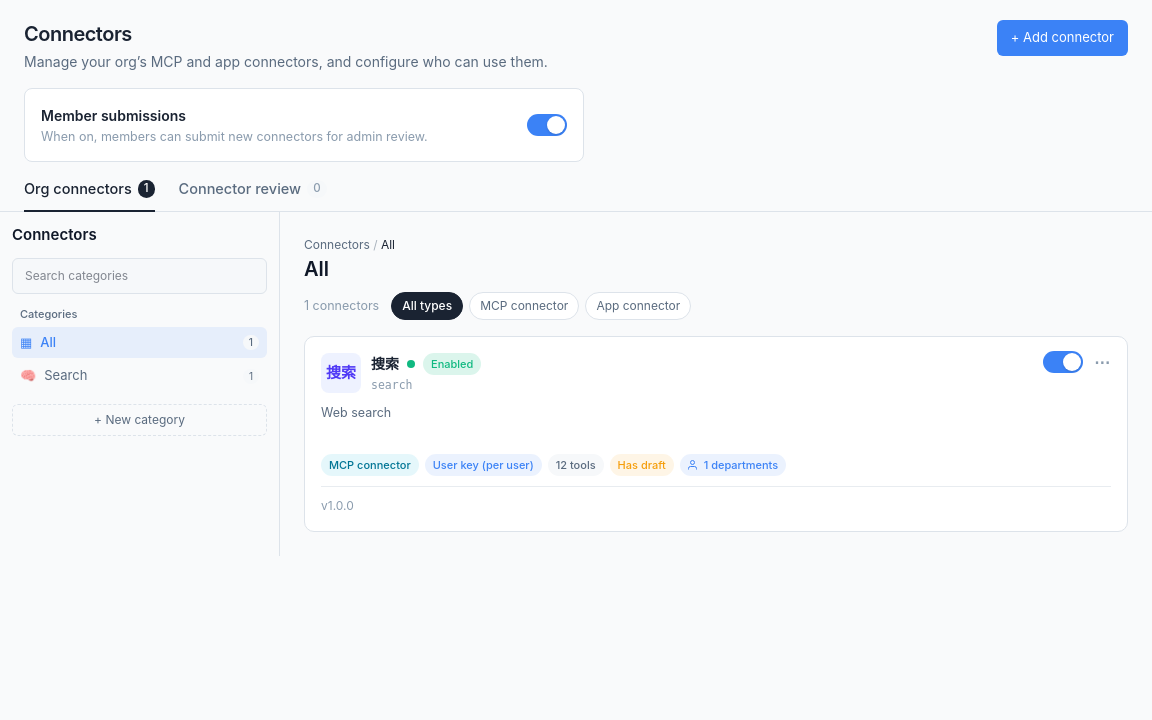
Test: MCPManagePage (org connectors + review tabs) › the edit drawer seeds the form from the staged draft and shows the unpublished-changes banner
The width and height of the screenshot is (1152, 720).
Check: the text "Web search" is shown, box left=321, top=405, right=391, bottom=420
Click the button "Web search": (716, 434) left=304, top=336, right=1128, bottom=532
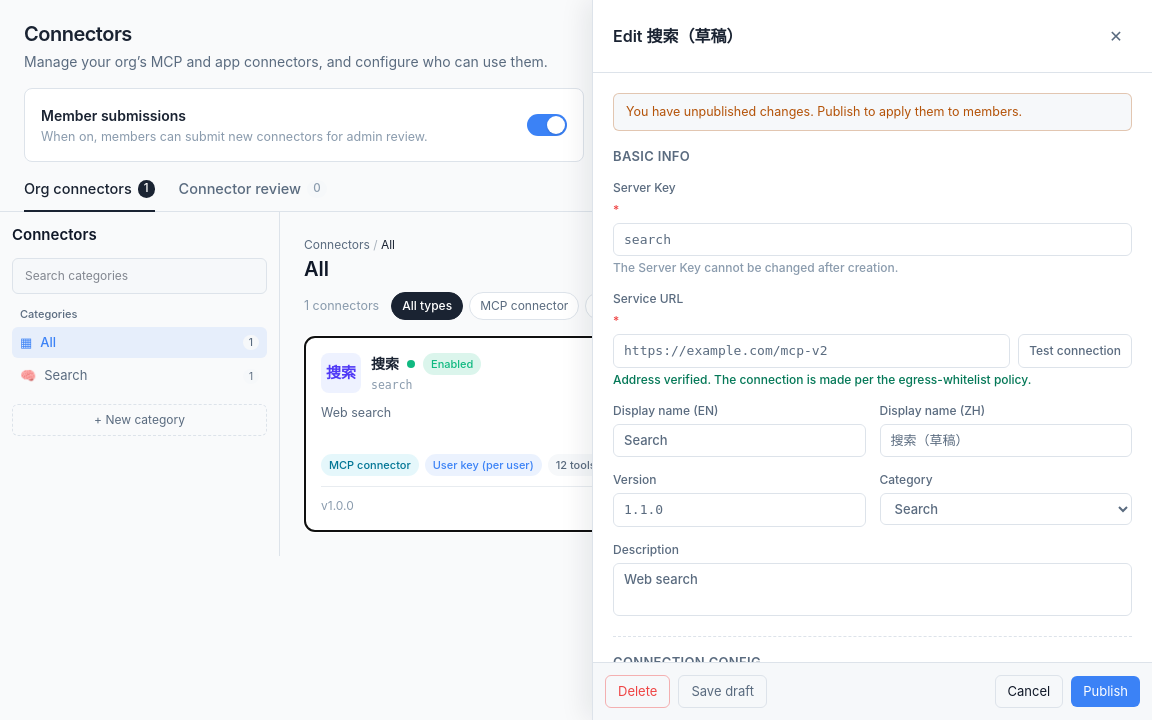
Check: the button "Save draft" is shown, box left=678, top=674, right=767, bottom=708
Check: the text "You have unpublished changes. Publish to apply them to members." is shown, box left=613, top=93, right=1132, bottom=131
Check: the field named "Service URL" holds "https://example.com/mcp-v2", box left=613, top=334, right=1010, bottom=368
